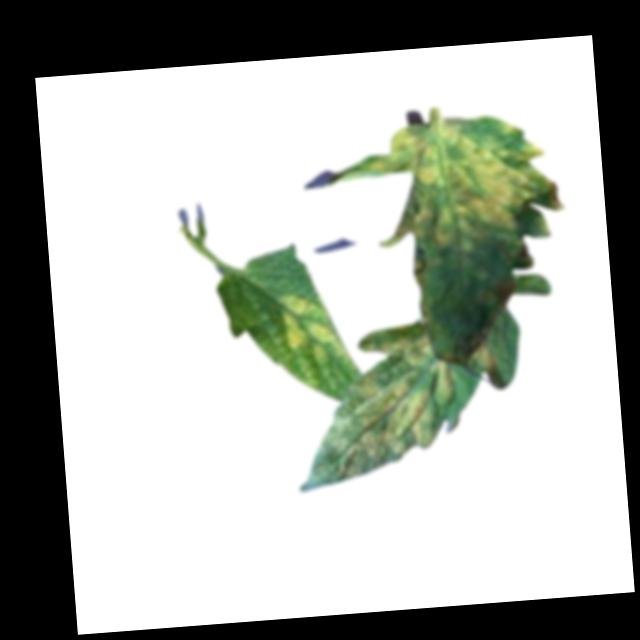Leaf_Mold: (368, 111, 569, 257), (327, 361, 458, 467), (280, 288, 347, 365), (360, 329, 433, 372), (474, 344, 497, 373)
